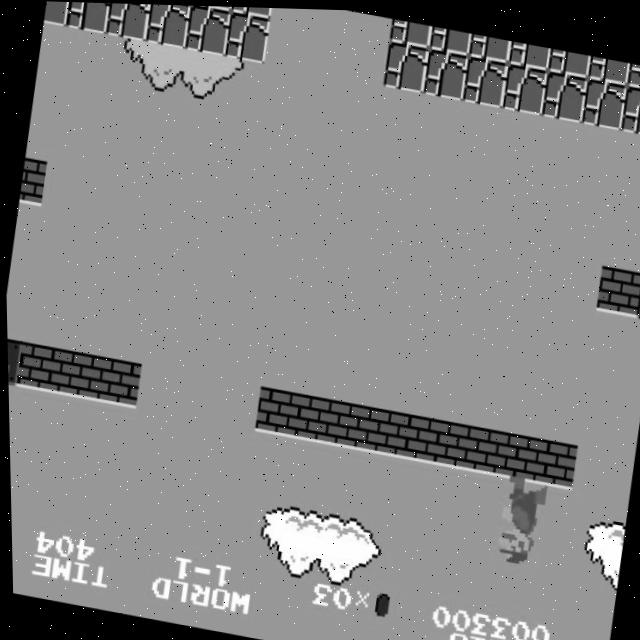0- big_mario: (491, 472, 549, 573)
1- brick_block: (370, 406, 419, 459), (528, 435, 577, 487), (489, 428, 538, 480), (449, 421, 498, 473), (330, 399, 379, 451), (291, 392, 340, 444), (251, 385, 300, 437), (93, 356, 142, 408), (53, 349, 102, 401), (13, 342, 62, 394), (410, 413, 458, 465), (594, 262, 640, 315), (17, 157, 47, 207)
13- mystery_block: (6, 338, 22, 386)
17- undestructible_block: (540, 67, 589, 120), (500, 60, 549, 113), (461, 53, 510, 106), (421, 46, 470, 99), (223, 10, 272, 63), (580, 74, 628, 128), (382, 38, 430, 91), (183, 4, 232, 55), (144, 3, 193, 48), (104, 2, 153, 41), (65, 2, 114, 34), (547, 45, 592, 75), (507, 38, 552, 68), (388, 17, 433, 47), (587, 52, 631, 82), (468, 31, 512, 61), (428, 23, 472, 53), (619, 81, 640, 134), (43, 1, 72, 27), (230, 5, 274, 17), (626, 60, 640, 89)
3- empty_block: (634, 270, 640, 318)
